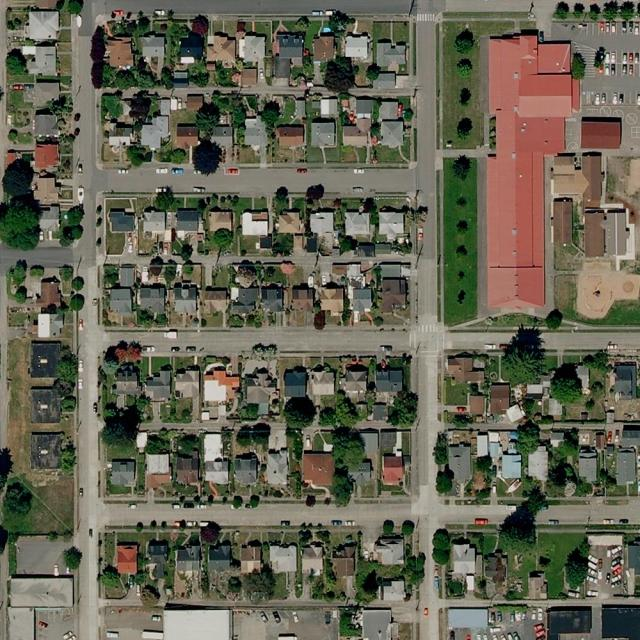building: (485, 30, 579, 310), (10, 575, 74, 608), (552, 154, 590, 202), (600, 208, 630, 257), (245, 368, 276, 415), (547, 606, 591, 639), (265, 427, 289, 486), (204, 365, 240, 403), (446, 351, 487, 383), (602, 605, 640, 639), (581, 117, 621, 149), (204, 433, 229, 484), (137, 115, 172, 151), (582, 151, 604, 207), (302, 451, 335, 486), (206, 32, 238, 68), (30, 341, 60, 378), (30, 388, 60, 424), (31, 432, 61, 468), (374, 37, 407, 68), (347, 457, 380, 488), (585, 209, 605, 257), (138, 283, 167, 316), (448, 607, 489, 630), (145, 365, 171, 401), (28, 10, 58, 41), (362, 608, 391, 640), (106, 37, 134, 70), (381, 277, 406, 313), (27, 45, 56, 76), (554, 198, 573, 245), (8, 607, 35, 640), (614, 362, 638, 399), (343, 369, 369, 403), (449, 444, 471, 484), (146, 454, 171, 489), (265, 449, 289, 485), (174, 366, 200, 399), (284, 365, 309, 399), (275, 30, 304, 59), (374, 535, 402, 565), (37, 205, 61, 240), (174, 451, 199, 484), (270, 545, 298, 574), (112, 366, 140, 395), (172, 282, 198, 313), (320, 286, 346, 317), (310, 117, 336, 148), (114, 542, 139, 574), (379, 429, 411, 454), (234, 452, 258, 485), (231, 286, 259, 314), (332, 544, 355, 578), (527, 446, 549, 481), (453, 542, 476, 575), (306, 370, 335, 396), (33, 175, 59, 204), (244, 117, 269, 147), (574, 362, 596, 396), (616, 448, 636, 485), (241, 209, 268, 236), (375, 367, 404, 392), (276, 123, 305, 148), (301, 546, 325, 576), (261, 283, 285, 313), (110, 459, 136, 486), (239, 35, 265, 62), (379, 211, 404, 239), (291, 283, 315, 312), (380, 120, 404, 149), (579, 446, 598, 482), (382, 454, 404, 485), (109, 208, 136, 233), (35, 141, 59, 169), (209, 541, 231, 571), (176, 545, 201, 571), (34, 81, 60, 106), (205, 286, 229, 313), (175, 122, 199, 149), (490, 382, 510, 414), (39, 276, 60, 306), (345, 211, 370, 236), (109, 122, 134, 147), (38, 314, 64, 338), (312, 34, 335, 61), (241, 544, 262, 573), (210, 125, 235, 149), (379, 579, 406, 601), (110, 288, 132, 315), (342, 125, 369, 147), (141, 34, 165, 58), (345, 35, 369, 59), (176, 208, 199, 233), (204, 378, 227, 402), (277, 211, 301, 234), (6, 147, 35, 166), (34, 114, 59, 136), (529, 570, 548, 598), (311, 211, 334, 234), (142, 211, 166, 233), (147, 540, 169, 563), (209, 210, 232, 232), (501, 454, 521, 479), (504, 403, 527, 424), (587, 534, 624, 547), (360, 430, 380, 454), (271, 56, 291, 80), (355, 97, 375, 120), (352, 288, 371, 312), (372, 71, 397, 89), (487, 431, 503, 459), (621, 425, 640, 448), (319, 97, 339, 118), (379, 100, 399, 120), (547, 398, 564, 421), (379, 262, 403, 278), (152, 115, 169, 137), (119, 265, 135, 288), (469, 394, 485, 416), (332, 262, 361, 274), (548, 430, 565, 449), (476, 432, 489, 456), (186, 94, 204, 111), (240, 69, 258, 86), (372, 402, 388, 421), (576, 430, 593, 447), (356, 116, 372, 133), (526, 383, 546, 396), (294, 98, 306, 119), (160, 99, 170, 116), (540, 375, 551, 390)
dryland: (232, 608, 339, 640), (607, 157, 640, 251), (576, 271, 639, 319), (101, 606, 163, 640)
greenland: (437, 20, 489, 150), (546, 271, 640, 335), (100, 6, 211, 60), (444, 159, 478, 325), (144, 186, 268, 213), (100, 395, 149, 462), (0, 449, 32, 551), (208, 80, 262, 138), (536, 532, 585, 595), (501, 324, 547, 389), (543, 441, 592, 498), (190, 102, 223, 176), (239, 564, 294, 607), (52, 183, 88, 248), (101, 58, 173, 90), (497, 529, 536, 588), (100, 90, 159, 129), (227, 257, 296, 288), (52, 344, 80, 412), (186, 135, 227, 179), (6, 82, 35, 144), (330, 424, 367, 472), (270, 181, 323, 214), (100, 338, 147, 372), (431, 431, 456, 494), (549, 362, 584, 405), (544, 457, 583, 495), (148, 260, 204, 286), (564, 536, 590, 590), (59, 263, 87, 312), (323, 55, 358, 94), (189, 61, 239, 88), (283, 394, 318, 430), (329, 465, 358, 508), (319, 396, 359, 427), (197, 227, 241, 255), (520, 476, 550, 517), (580, 344, 616, 377), (387, 390, 419, 427), (254, 97, 286, 133), (371, 17, 412, 44), (354, 560, 379, 604), (514, 419, 542, 456), (95, 562, 127, 594), (324, 6, 355, 37), (121, 143, 154, 172), (6, 260, 28, 303), (196, 518, 226, 548), (57, 133, 75, 182), (444, 375, 472, 405), (401, 552, 425, 585), (236, 422, 270, 445), (340, 606, 362, 637), (227, 310, 264, 328), (90, 26, 108, 63), (432, 529, 451, 564), (136, 309, 169, 328), (449, 408, 474, 433), (5, 48, 28, 75), (478, 531, 501, 558), (143, 432, 170, 455), (61, 544, 84, 570), (450, 154, 473, 180), (176, 432, 201, 455), (362, 196, 380, 226), (6, 7, 28, 31), (362, 61, 385, 83), (141, 585, 160, 608), (376, 564, 405, 579), (102, 264, 119, 289), (7, 541, 19, 575), (159, 149, 188, 163), (467, 531, 484, 553), (237, 403, 259, 420), (563, 427, 579, 447), (400, 520, 415, 536), (228, 576, 241, 594), (382, 518, 395, 536), (28, 264, 45, 277), (591, 380, 604, 391), (564, 430, 576, 441)
metalled_road: (410, 10, 444, 640), (102, 486, 411, 533), (95, 162, 414, 198), (101, 324, 411, 358), (542, 324, 640, 350), (15, 535, 72, 576), (0, 244, 73, 276), (439, 498, 511, 529), (446, 327, 516, 351)
